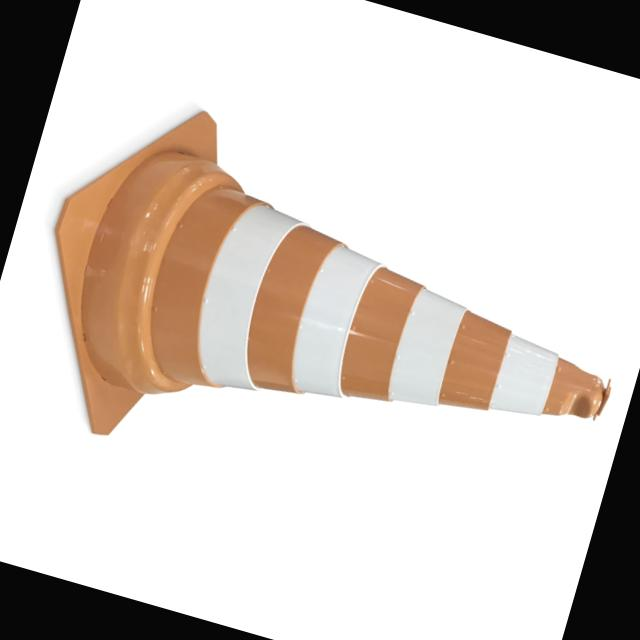cone: (21, 68, 640, 584)
